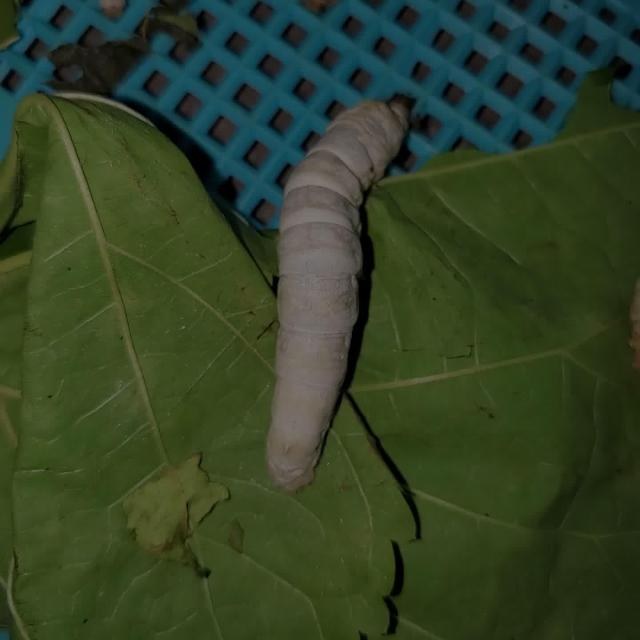Grasserie: (220, 79, 472, 504)
